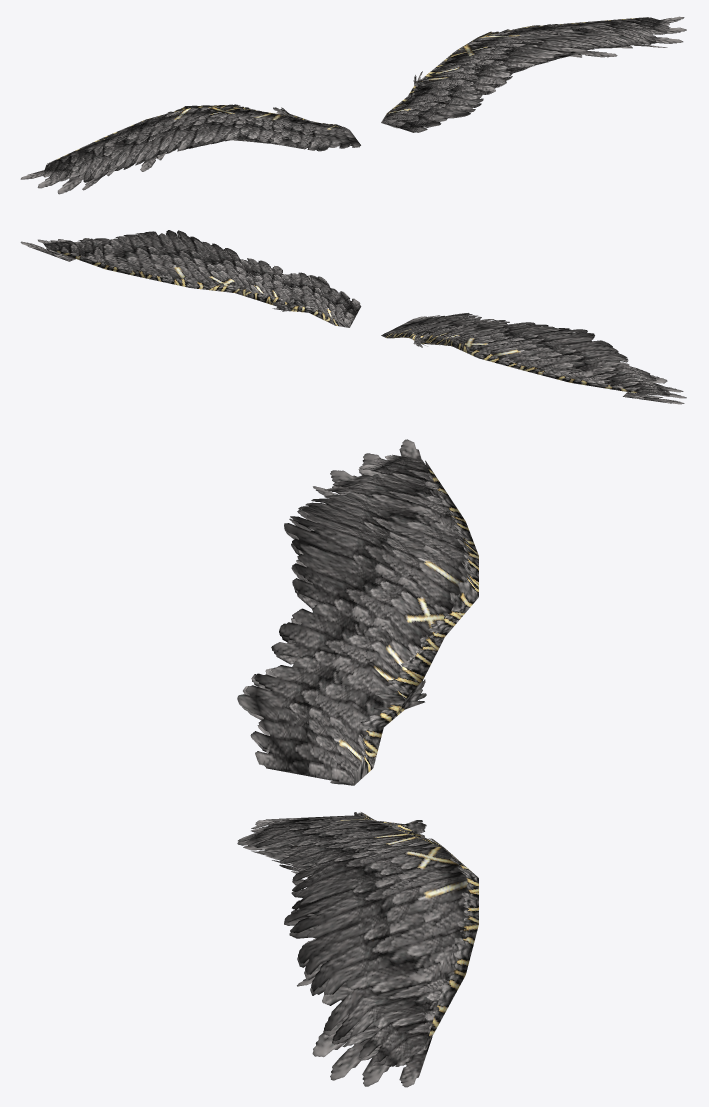
File: Icarus Wings.obj
3 views of the same model, one above another, from view 1: azimuth 30°, elevation 25°; view 2: azimuth 150°, elevation 25°; view 3: azimuth 270°, elevation 25° (orthographic). The views are drawn at different scales.
Parts seen in each view (by area): view 1: mesh_27_mesh_27.029; view 2: mesh_27_mesh_27.029; view 3: mesh_27_mesh_27.029.
Boxes of the visible parts, box(x1,y1,x2,y2) form: mesh_27_mesh_27.029: box(20, 16, 686, 194); mesh_27_mesh_27.029: box(20, 230, 686, 404); mesh_27_mesh_27.029: box(237, 439, 478, 1087).
Size of the model in its own units: 9.46 by 0.5956 by 1.52.
2 materials, 2 textured.
